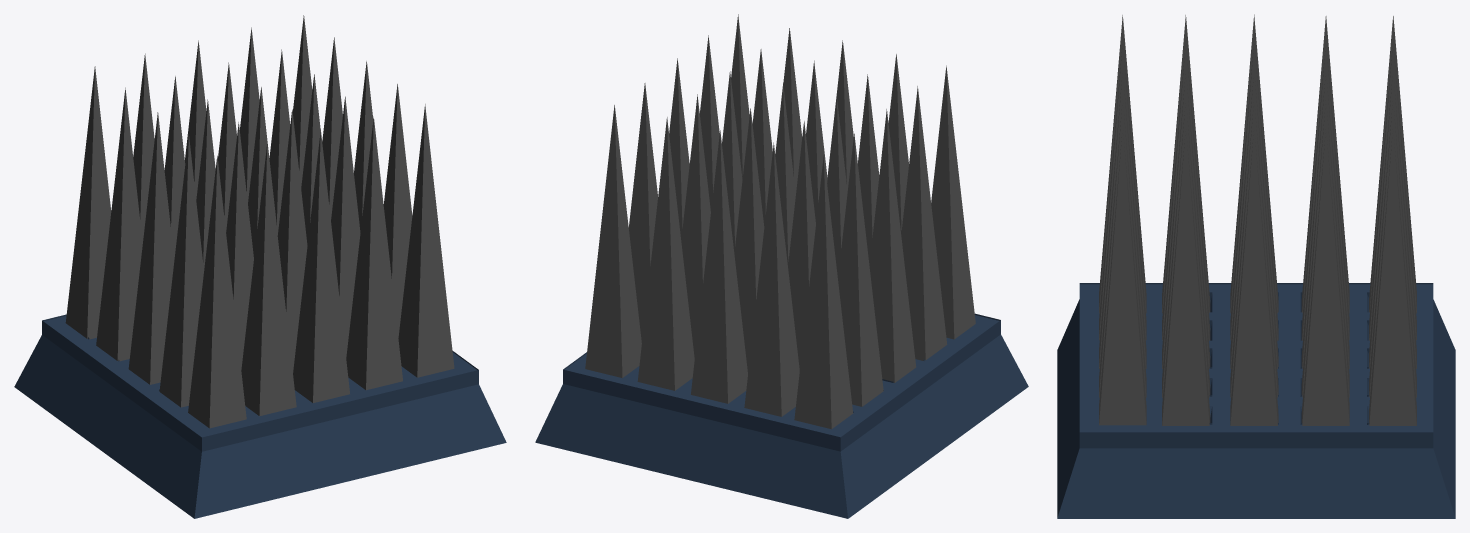
Rendered from SPIKES.fbx.
The picture shows the model from 3 angles, left to right: view 1: azimuth 30°, elevation 25°; view 2: azimuth 150°, elevation 25°; view 3: azimuth 270°, elevation 25°; orthographic projection. The views are drawn at different scales.
Parts seen in each view (by area): view 1: HOLDER NG SPIKES, Cube.006, Cube.004, Cube.003, Cube.001, Cube.005, Cube.017, Cube.016, Cube.002, Cube.007, Cube.009, Cube.010 (+14 smaller); view 2: HOLDER NG SPIKES, Cube.002, Cube.024, Cube.023, Cube.022, Cube.025, Cube.016, Cube.007, Cube.017, Cube.006, Cube.019, Cube.020 (+14 smaller); view 3: HOLDER NG SPIKES, Cube.001, Cube.012, Cube.021, Cube.011, Cube.022, Cube.015, Cube.018, Cube.008, Cube.014, Cube.019, Cube.009 (+14 smaller).
Part boxes in pixels (x1,y1,x2,y2): HOLDER NG SPIKES: (14,314,506,518); Cube.006: (188,155,246,428); Cube.004: (293,129,349,402); Cube.003: (346,116,402,390); Cube.001: (398,104,454,377); Cube.005: (241,143,296,416); Cube.017: (96,87,142,361); Cube.016: (128,112,174,384); Cube.002: (65,66,111,339); Cube.007: (159,134,203,407); Cube.009: (277,109,307,372); Cube.010: (331,96,360,357); HOLDER NG SPIKES: (535,313,1028,518); Cube.002: (794,155,853,429); Cube.024: (691,130,747,403); Cube.023: (637,117,694,390); Cube.022: (585,105,641,377); Cube.025: (744,142,799,416); Cube.016: (869,109,916,382); Cube.007: (901,86,947,360); Cube.017: (838,133,883,406); Cube.006: (931,65,975,339); Cube.019: (734,108,764,373); Cube.020: (681,94,710,358); HOLDER NG SPIKES: (1057,283,1455,518); Cube.001: (1099,127,1146,425); Cube.012: (1230,127,1278,425); Cube.021: (1301,128,1349,425); Cube.011: (1162,127,1210,425); Cube.022: (1369,128,1416,425); Cube.015: (1230,41,1278,340); Cube.018: (1301,42,1349,340); Cube.008: (1162,42,1210,340); Cube.014: (1230,70,1278,368); Cube.019: (1301,71,1349,368); Cube.009: (1162,71,1210,368).
Bounding box in the file's own units: 1400 × 1414 × 1400.
